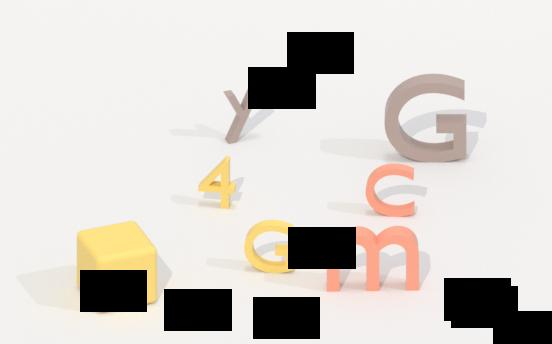4: (194, 153, 242, 212)
G-hoa: (381, 71, 475, 166), (242, 219, 301, 275)
Y: (221, 84, 265, 146)
c: (362, 162, 423, 218)
hop: (69, 223, 164, 313)
m: (322, 226, 423, 294)
